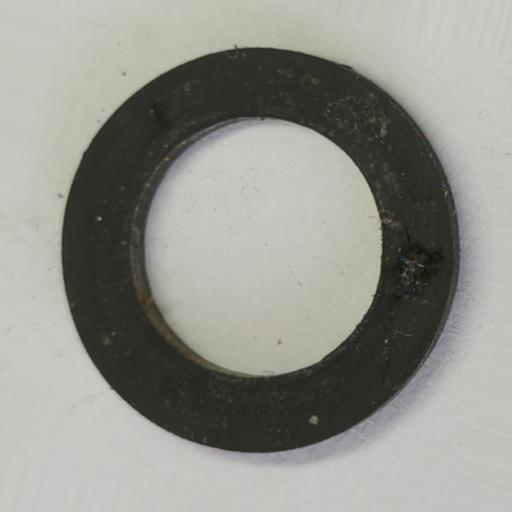defect: (391, 237, 442, 295), (150, 97, 174, 127)
